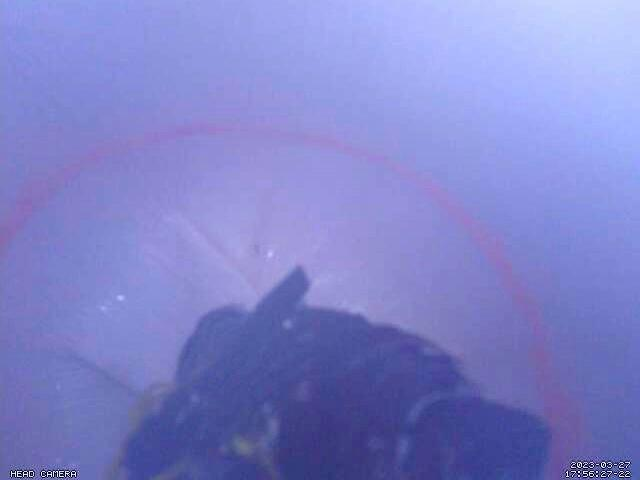head: (0, 121, 573, 480)
